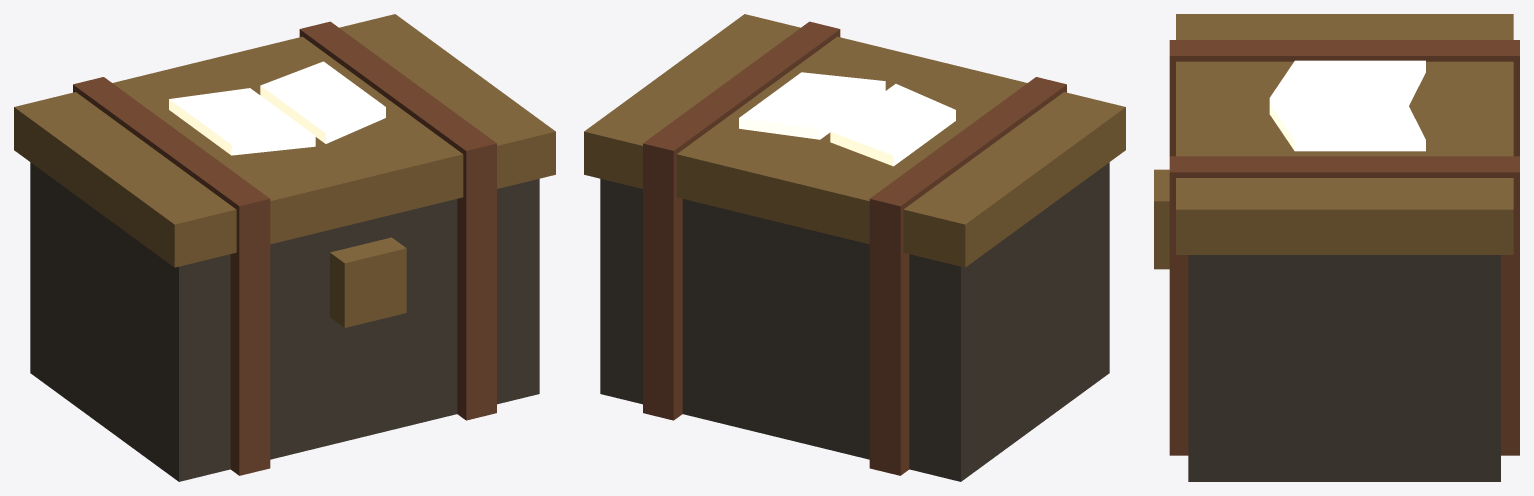
Rendered from sealed_box_book.glb.
3 views of the same model, side by side, from view 1: azimuth 30°, elevation 25°; view 2: azimuth 150°, elevation 25°; view 3: azimuth 270°, elevation 25° (orthographic). The views are drawn at different scales.
Visible parts, largest first — view 1: sealed_box_book; view 2: sealed_box_book; view 3: sealed_box_book.
Part boxes in pixels (left/top/right/bottom): sealed_box_book: left=14, top=14, right=555, bottom=481; sealed_box_book: left=584, top=14, right=1125, bottom=481; sealed_box_book: left=1154, top=14, right=1519, bottom=481.
Size of the model in its own units: 0.74 by 0.51 by 0.585.
